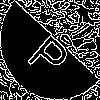P: (25, 25, 78, 82)
